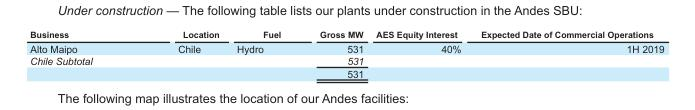table: (29, 29, 663, 78)
table column: (470, 29, 663, 78), (29, 29, 134, 78), (369, 29, 470, 78), (134, 29, 227, 78), (227, 29, 299, 78), (299, 29, 369, 78)
table column header: (29, 29, 663, 54)
table row: (29, 29, 663, 54), (29, 54, 663, 67), (29, 67, 663, 78)
